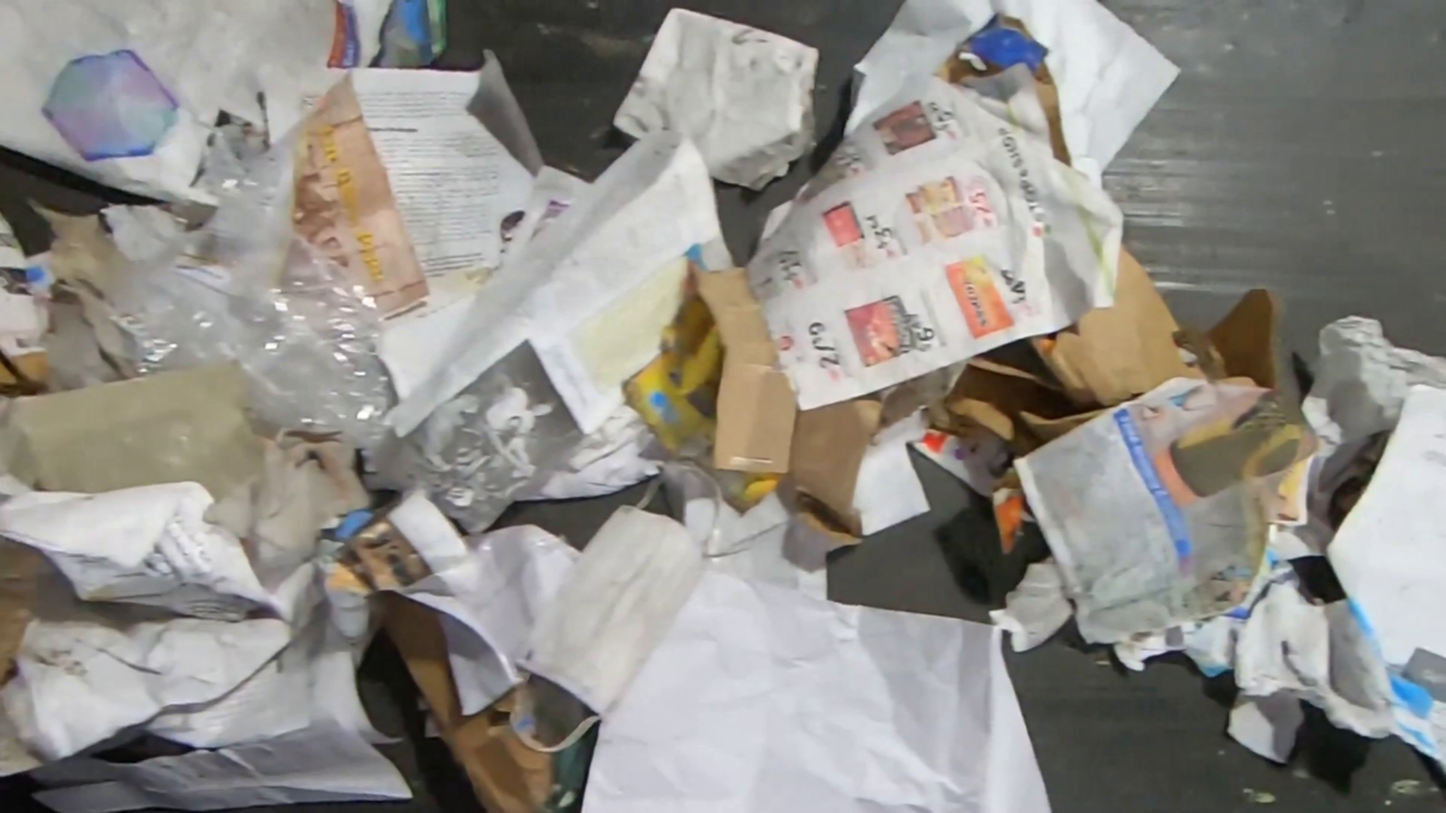cardboard: (0, 364, 389, 587), (934, 239, 1282, 459), (620, 260, 883, 549), (378, 587, 605, 813), (937, 12, 1069, 162), (910, 421, 1035, 556), (0, 204, 58, 398)
plastic: (100, 129, 401, 464)
